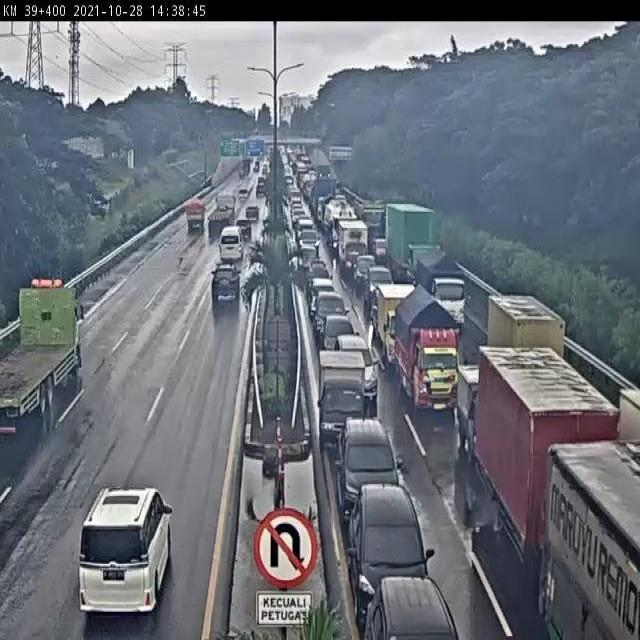big truck: (479, 345, 626, 595), (0, 277, 85, 433), (383, 203, 433, 281), (205, 190, 237, 238)
car: (82, 488, 176, 617), (349, 486, 436, 618), (335, 418, 399, 530), (363, 577, 460, 640), (335, 336, 380, 403), (319, 315, 360, 369), (312, 290, 350, 342), (208, 267, 242, 316), (367, 265, 395, 308), (309, 276, 334, 316), (355, 255, 376, 288), (232, 218, 252, 242), (244, 207, 260, 225)
small bus: (214, 230, 244, 270)
small truck: (393, 287, 462, 416), (484, 289, 563, 399), (458, 365, 521, 468), (317, 348, 369, 449), (417, 248, 466, 328), (377, 283, 420, 369), (339, 220, 369, 276), (184, 197, 206, 235)
